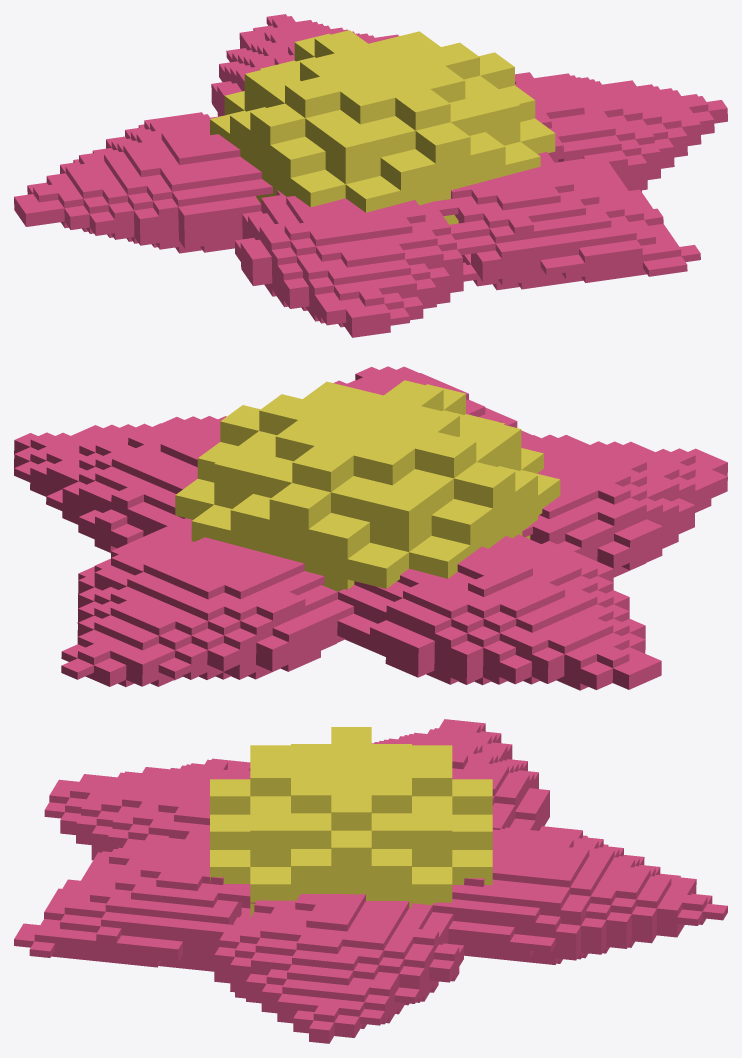
The model's file is flower.fbx.
3 renders of one model, top to bottom at view 1: azimuth 30°, elevation 25°; view 2: azimuth 150°, elevation 25°; view 3: azimuth 270°, elevation 25°, orthographic. The views are drawn at different scales.
Visible parts, largest first — view 1: Cylinder.004, Sphere; view 2: Cylinder.004, Sphere; view 3: Cylinder.004, Sphere.
Part boxes in pixels (<box>): Cylinder.004: <box>14,14,727,337</box>; Sphere: <box>210,30,555,224</box>; Cylinder.004: <box>14,366,727,690</box>; Sphere: <box>175,380,560,591</box>; Cylinder.004: <box>14,719,727,1043</box>; Sphere: <box>210,727,492,917</box>.
Size of the model in its own units: 750 by 162 by 726.
